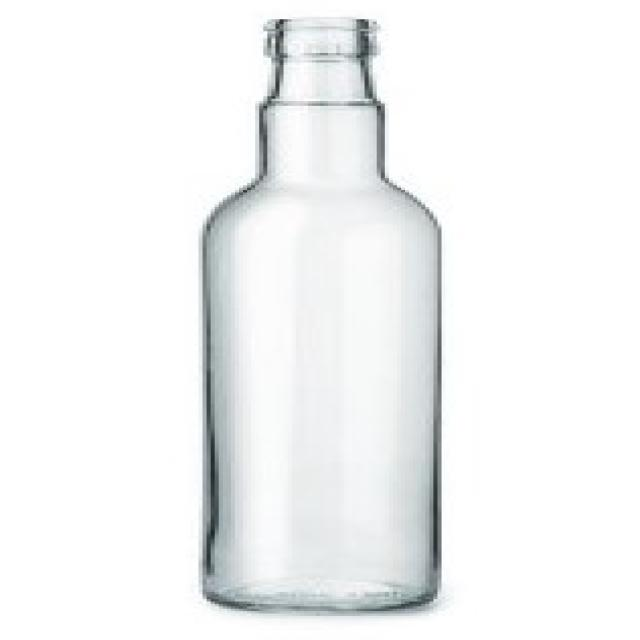electronic: (193, 11, 452, 617)
